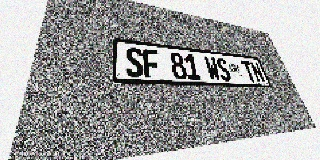1: (183, 54, 201, 80)
8: (169, 52, 188, 79)
F: (142, 49, 161, 78)
N: (249, 61, 266, 83)
S: (125, 47, 144, 78), (215, 57, 233, 81)
T: (240, 60, 257, 82)
W: (203, 56, 222, 81)
